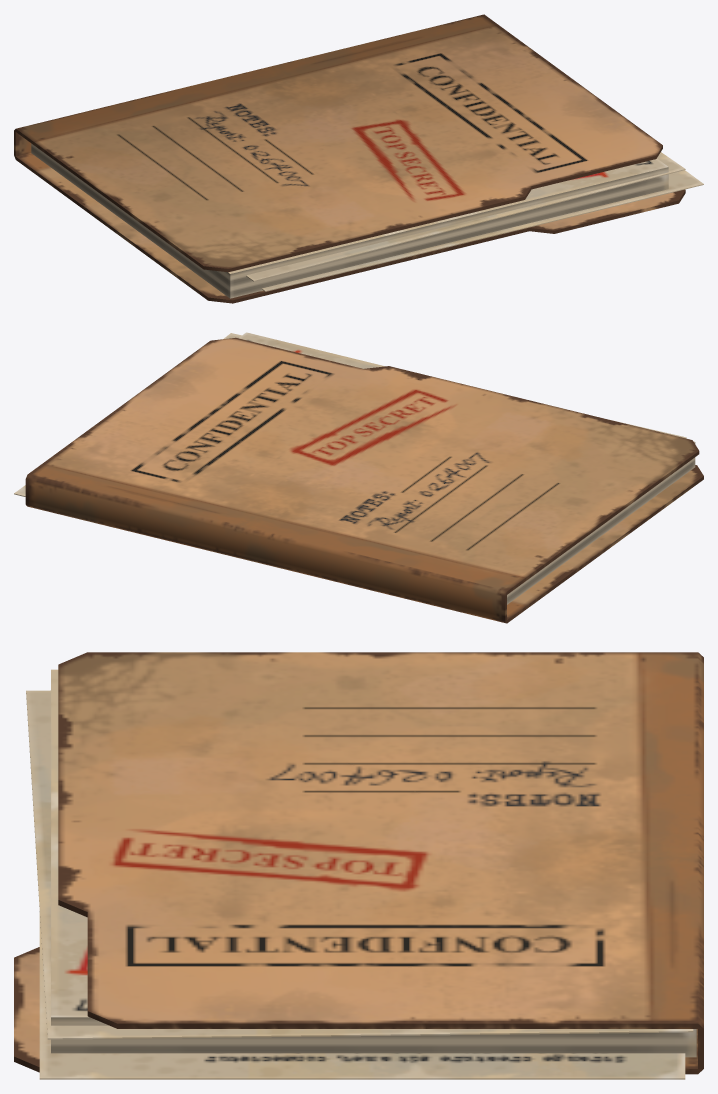
The model's file is fileFolder02_A.fbx.
The picture shows the model from 3 angles, top to bottom: view 1: azimuth 30°, elevation 25°; view 2: azimuth 150°, elevation 25°; view 3: azimuth 270°, elevation 25°; orthographic projection. The views are drawn at different scales.
Visible parts, largest first — view 1: fileFolder02_A; view 2: fileFolder02_A; view 3: fileFolder02_A.
Boxes of the visible parts, x1,y1,x2,y2 form: fileFolder02_A: (14,14,703,303); fileFolder02_A: (14,332,703,623); fileFolder02_A: (14,652,703,1079).
Bounding box in the file's own units: 30.89 × 1.9 × 23.4.
